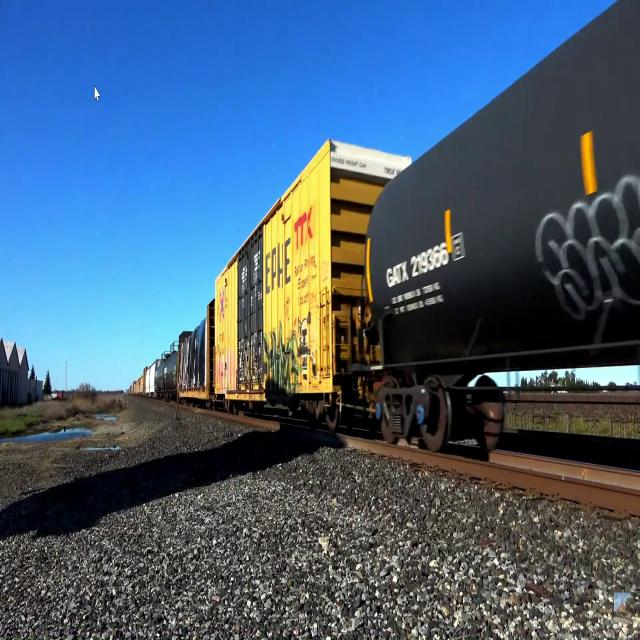boxcar: (212, 130, 418, 451)
cargo: (181, 316, 207, 387)
flatcar_bulkhead: (176, 295, 215, 415)
tank: (355, 0, 640, 462), (163, 344, 178, 402)
